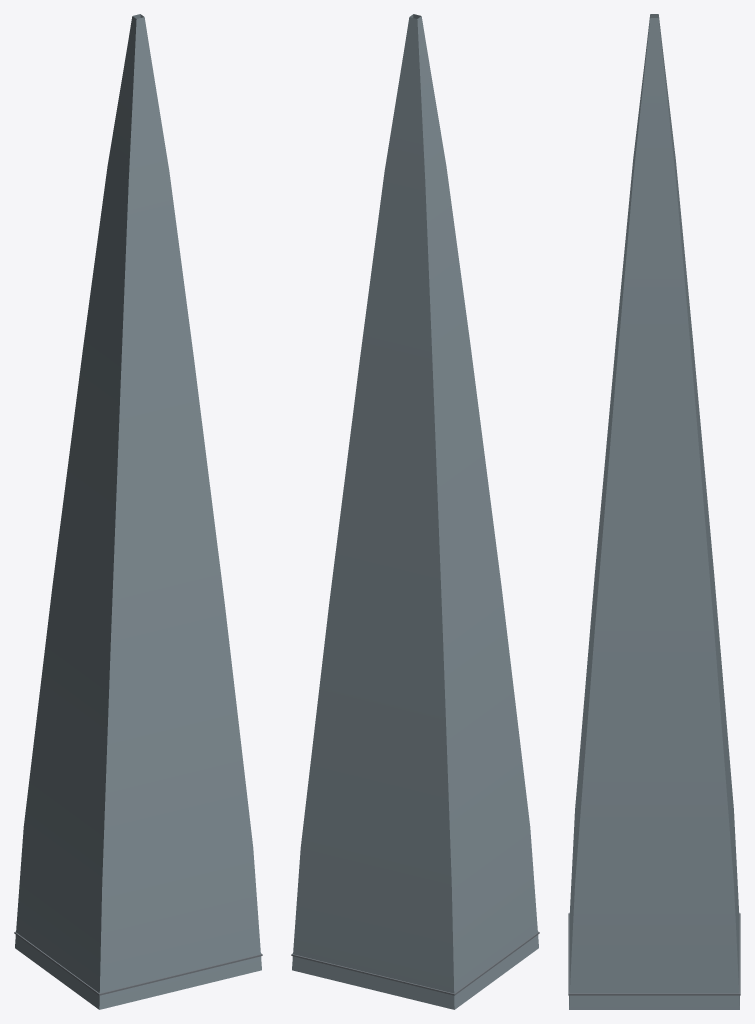
Rendered from shard.glb.
3 renders of one model, left to right at view 1: azimuth 30°, elevation 25°; view 2: azimuth 150°, elevation 25°; view 3: azimuth 270°, elevation 25°, orthographic.
Parts seen in each view (by area): view 1: glas, lack; view 2: glas, lack; view 3: glas, lack.
Part boxes in pixels (x1,y1,x2,y2): glas: (15,14,261,1009); lack: (14,931,262,995); glas: (292,14,538,1009); lack: (291,931,539,995); glas: (569,14,739,1009); lack: (568,913,740,995).
Size of the model in its own units: 56.22 by 310 by 50.71.
